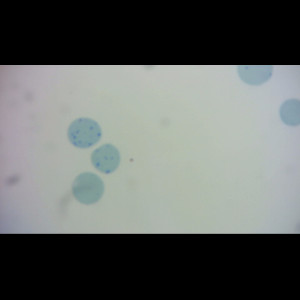aggregate reticulocyte: (66, 117, 103, 149), (90, 142, 122, 175)
erythrocyte: (70, 171, 107, 207)
